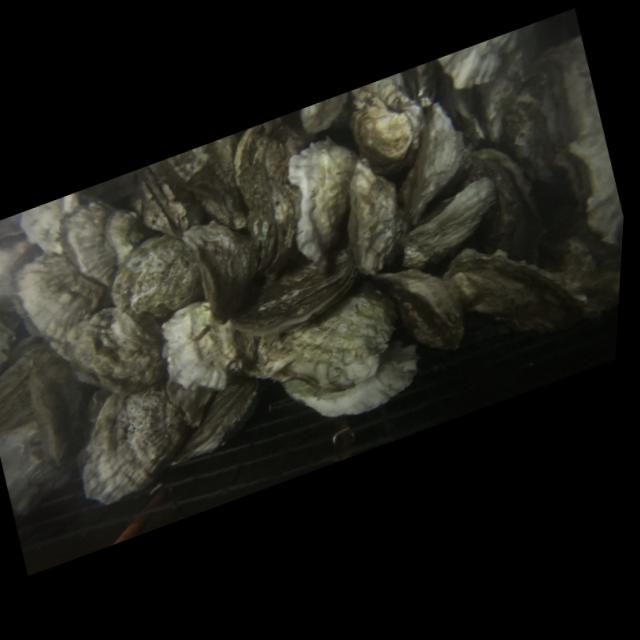Oyster-Closed: (217, 107, 340, 284), (224, 250, 366, 347)
Oyster-Indeterminate: (480, 30, 635, 284), (223, 270, 410, 427), (431, 209, 594, 366), (11, 168, 163, 309), (60, 372, 195, 514), (0, 332, 103, 518), (42, 289, 180, 422), (268, 125, 386, 279), (278, 333, 427, 438), (4, 224, 118, 347), (172, 203, 276, 333), (99, 222, 213, 332), (147, 290, 249, 410), (327, 148, 417, 281), (392, 173, 509, 271), (162, 133, 257, 250), (341, 65, 436, 174), (544, 211, 624, 330), (449, 58, 533, 153), (438, 25, 537, 99), (423, 64, 497, 159), (294, 90, 357, 138), (71, 379, 118, 433)
Oyster-Open: (357, 244, 475, 378), (373, 94, 482, 233), (460, 125, 559, 275), (157, 364, 273, 467), (127, 153, 195, 247), (155, 362, 227, 439), (392, 59, 447, 121)
